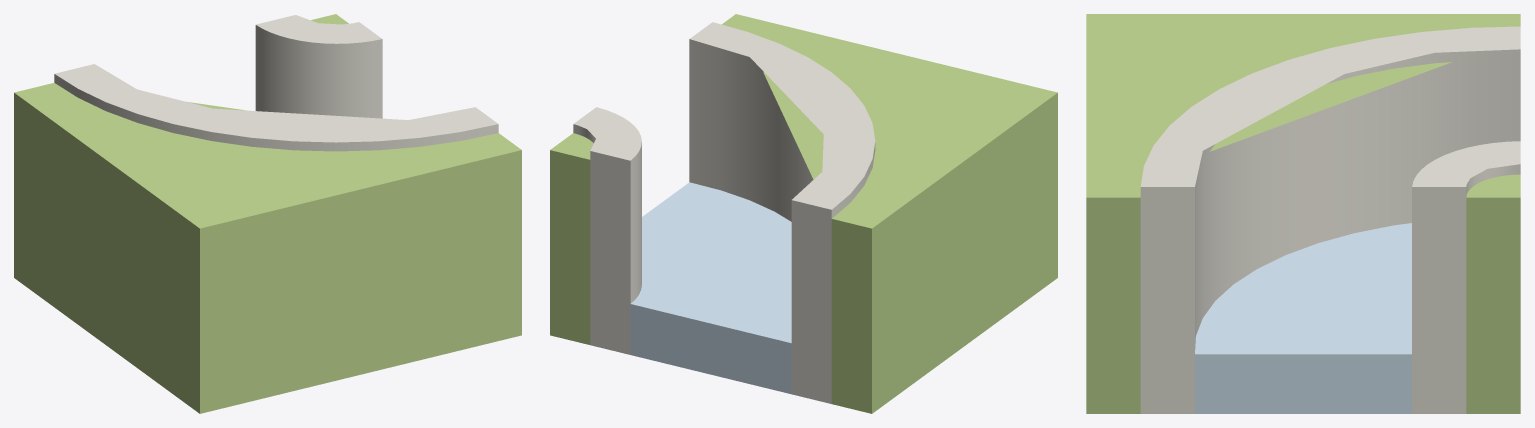
Rendered from kenney-3d-road-tiles-roadtile-234.glb.
3 renders of one model, left to right at view 1: azimuth 30°, elevation 25°; view 2: azimuth 150°, elevation 25°; view 3: azimuth 270°, elevation 25°, orthographic. The views are drawn at different scales.
Parts seen in each view (by area): view 1: Mesh1 Group1 Model; view 2: Mesh1 Group1 Model; view 3: Mesh1 Group1 Model.
Boxes of the visible parts, x1,y1,x2,y2 form: Mesh1 Group1 Model: [14, 14, 521, 413]; Mesh1 Group1 Model: [550, 14, 1057, 413]; Mesh1 Group1 Model: [1086, 14, 1520, 413].
Size of the model in its own units: 3 by 1.73 by 3.
